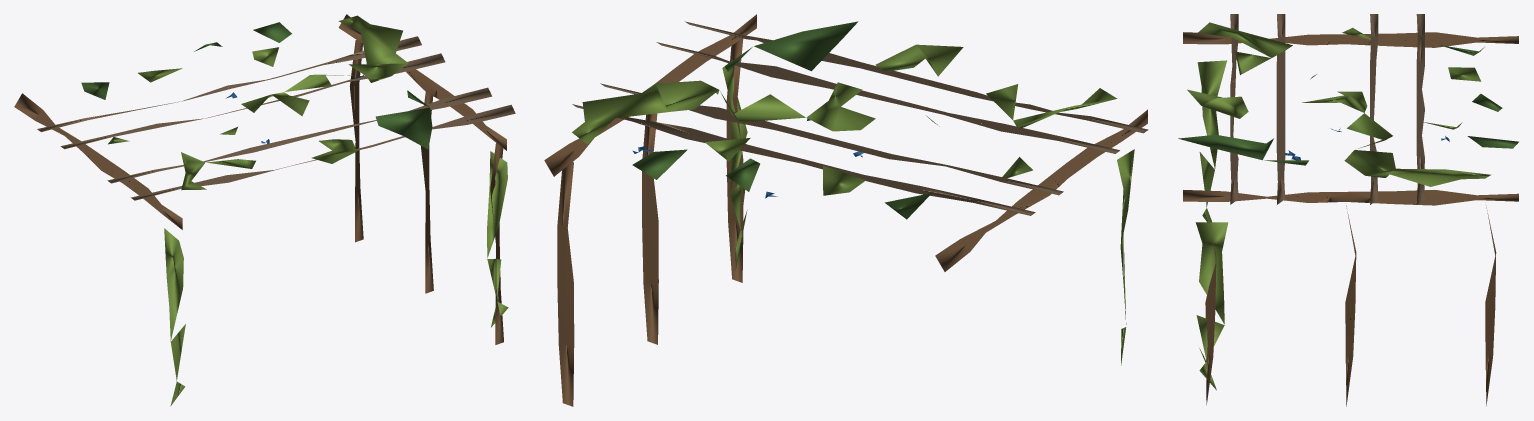
Rendered from decor_pergola_t1.glb.
3 views of the same model, side by side, from view 1: azimuth 30°, elevation 25°; view 2: azimuth 150°, elevation 25°; view 3: azimuth 270°, elevation 25° (orthographic). The views are drawn at different scales.
Visible parts, largest first — view 1: leaf, wood_dark, wood, leaf_dark; view 2: leaf, wood_dark, wood, leaf_dark; view 3: leaf, wood_dark, wood, leaf_dark.
Boxes of the visible parts, bbox=[...] form: leaf: bbox=[108, 15, 508, 406]; wood_dark: bbox=[14, 14, 506, 344]; wood: bbox=[37, 36, 515, 200]; leaf_dark: bbox=[81, 22, 432, 149]; leaf: bbox=[572, 44, 1134, 365]; wood_dark: bbox=[544, 14, 1147, 406]; wood: bbox=[572, 21, 1148, 215]; leaf_dark: bbox=[632, 21, 931, 219]; leaf: bbox=[1187, 22, 1490, 390]; wood_dark: bbox=[1183, 32, 1518, 406]; wood: bbox=[1230, 14, 1424, 204]; leaf_dark: bbox=[1178, 45, 1518, 165].
Size of the model in its own units: 4.7 by 2.8 by 3.67.
